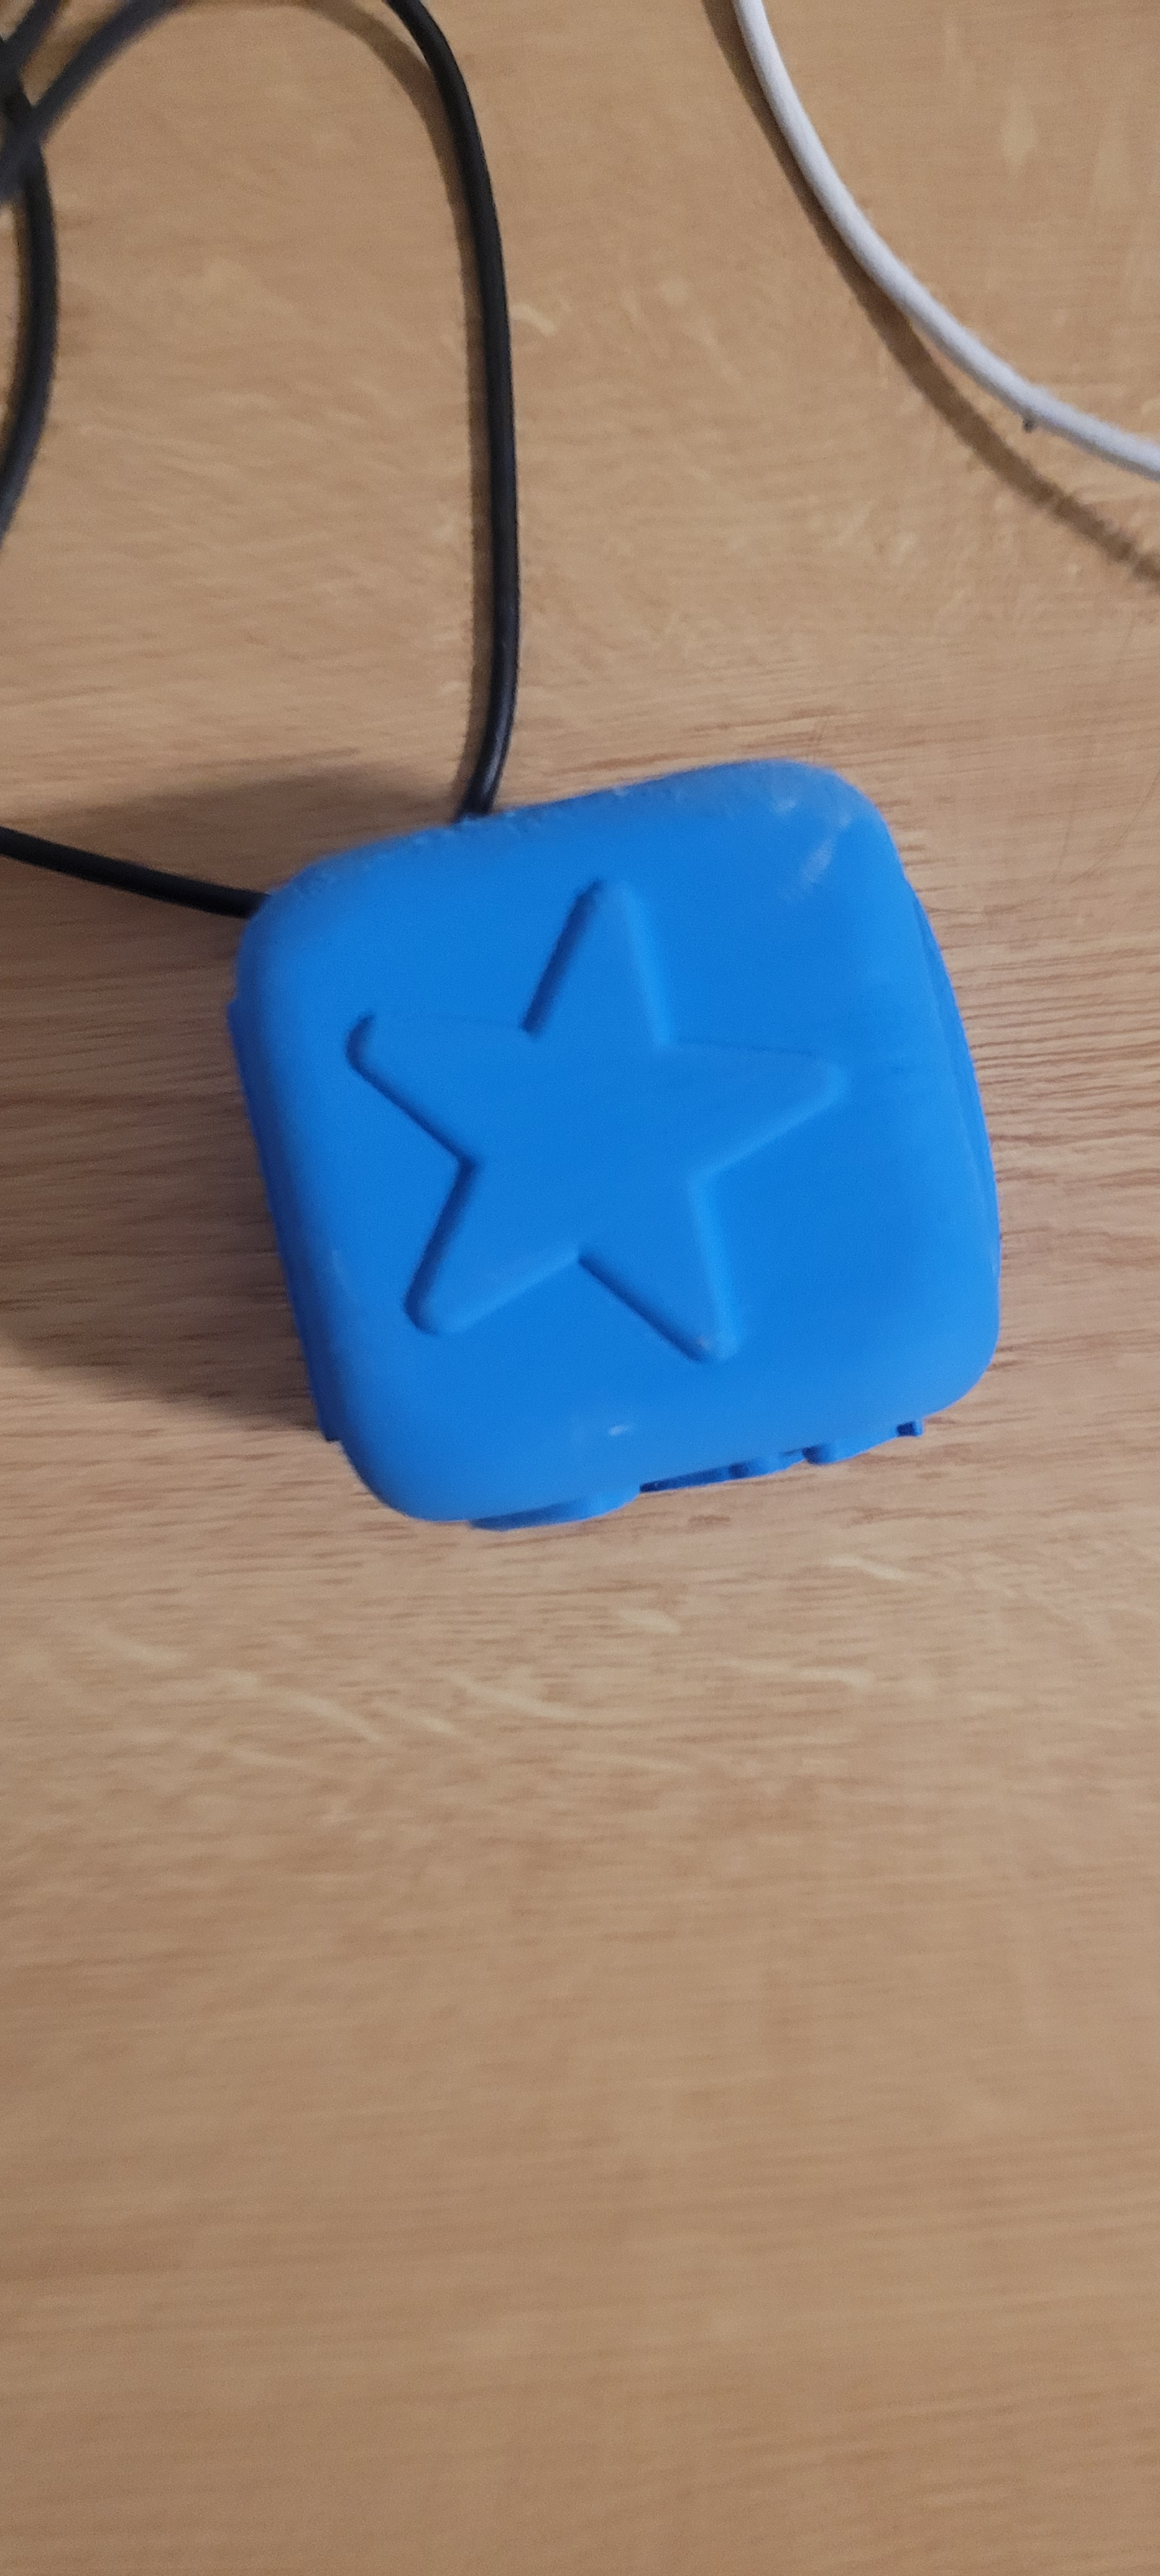Star: (268, 897, 910, 1424)
